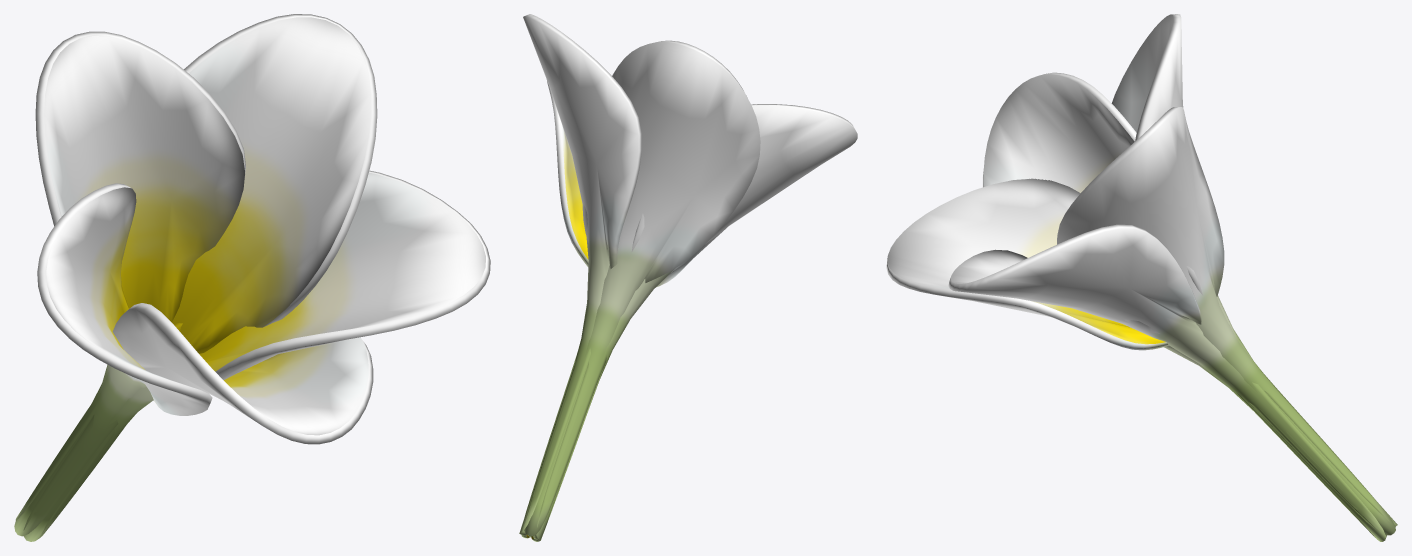
The model's file is flower.fbx.
3 views of the same model, side by side, from view 1: azimuth 30°, elevation 25°; view 2: azimuth 150°, elevation 25°; view 3: azimuth 270°, elevation 25° (orthographic). The views are drawn at different scales.
Parts seen in each view (by area): view 1: Circle.022; view 2: Circle.022; view 3: Circle.022.
Part boxes in pixels (x1=…): Circle.022: x1=14, y1=14, x2=490, y2=541; Circle.022: x1=519, y1=14, x2=857, y2=541; Circle.022: x1=886, y1=14, x2=1397, y2=541.
Size of the model in its own units: 213 by 294 by 278.
1 material, 1 textured.
